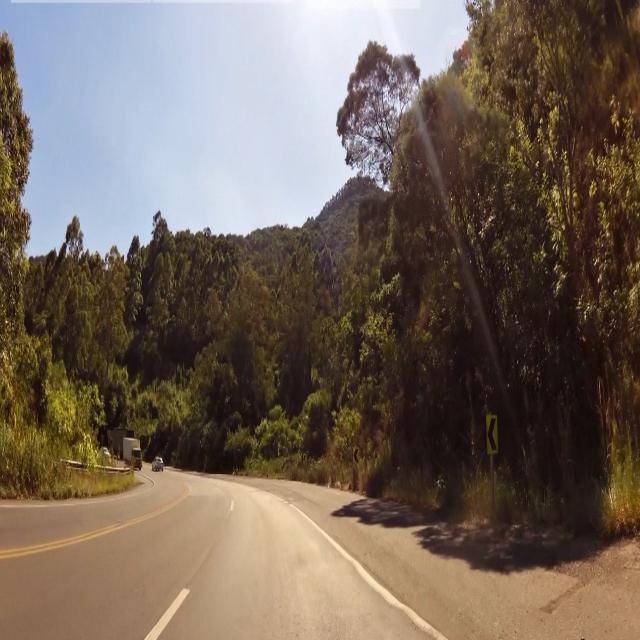Del: (486, 414, 498, 456)
